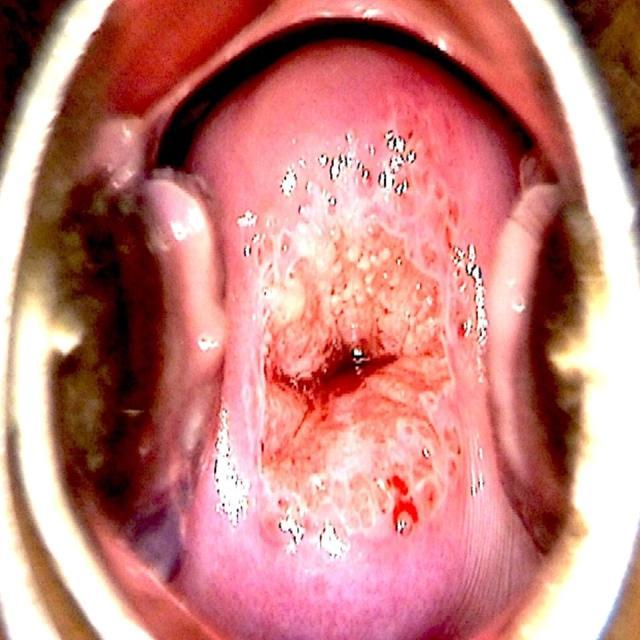cervical_lesion: (204, 105, 503, 571)
